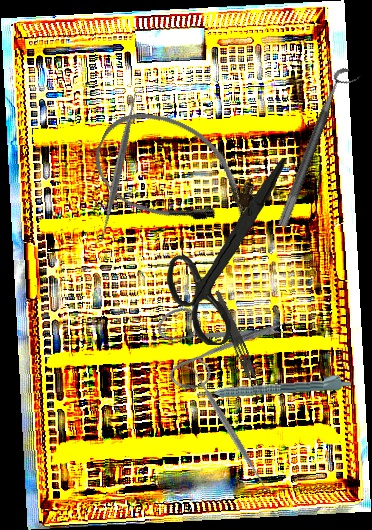Cannula: (80, 94, 269, 253)
Dressing Forceps: (209, 289, 268, 402)
Fixation Ring: (276, 64, 362, 234)
Handpiece: (196, 371, 352, 401)
Iris Scissors: (160, 157, 299, 348), (135, 260, 291, 417)
Spatula Surgical: (41, 88, 196, 246), (182, 359, 275, 497)
